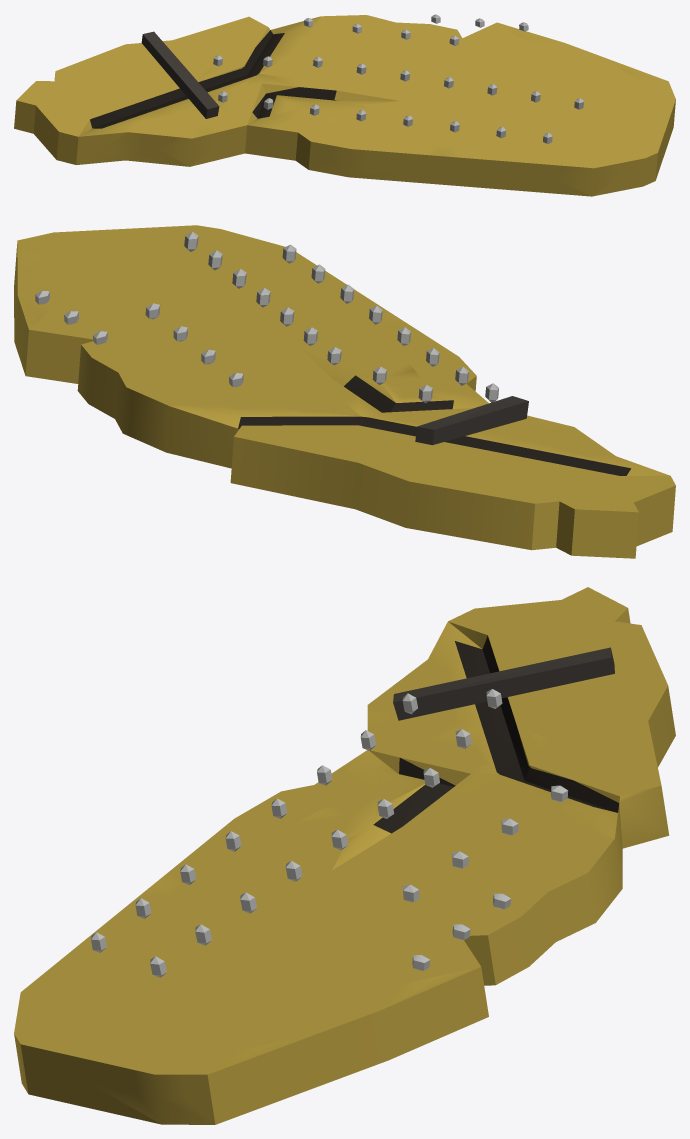
Rendered from crash-site-spaceship-wreck-small-6.glb.
3 views of the same model, one above another, from view 1: azimuth 30°, elevation 25°; view 2: azimuth 150°, elevation 25°; view 3: azimuth 270°, elevation 25° (orthographic). The views are drawn at different scales.
Parts seen in each view (by area): view 1: body; view 2: body; view 3: body.
Boxes of the visible parts, bbox=[...] form: body: bbox=[14, 14, 675, 196]; body: bbox=[14, 225, 675, 558]; body: bbox=[14, 587, 675, 1124].
Bounding box in the file's own units: 1.86 × 0.3386 × 1.18.
